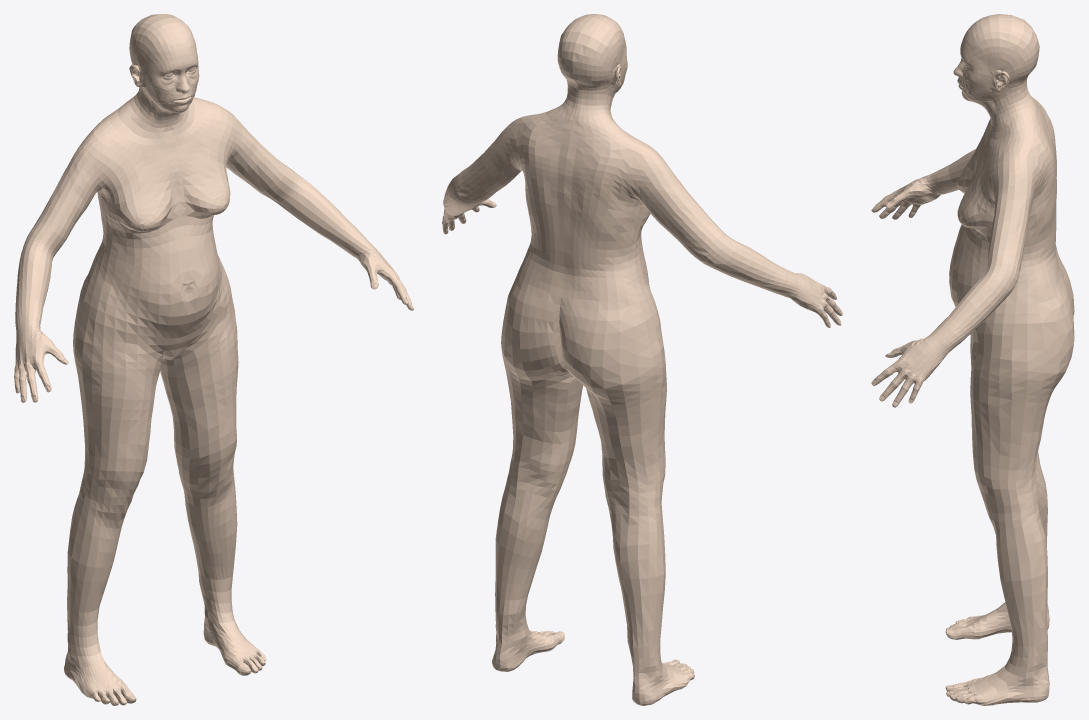
Rendered from female-older-max-toned.glb.
3 views of the same model, side by side, from view 1: azimuth 30°, elevation 25°; view 2: azimuth 150°, elevation 25°; view 3: azimuth 270°, elevation 25° (orthographic).
Visible parts, largest first — view 1: world; view 2: world; view 3: world.
Boxes of the visible parts, x1=… form: world: x1=14, y1=14, x2=413, y2=705; world: x1=442, y1=14, x2=842, y2=705; world: x1=871, y1=14, x2=1074, y2=705.
Size of the model in its own units: 1.13 by 1.8 by 0.5109.
